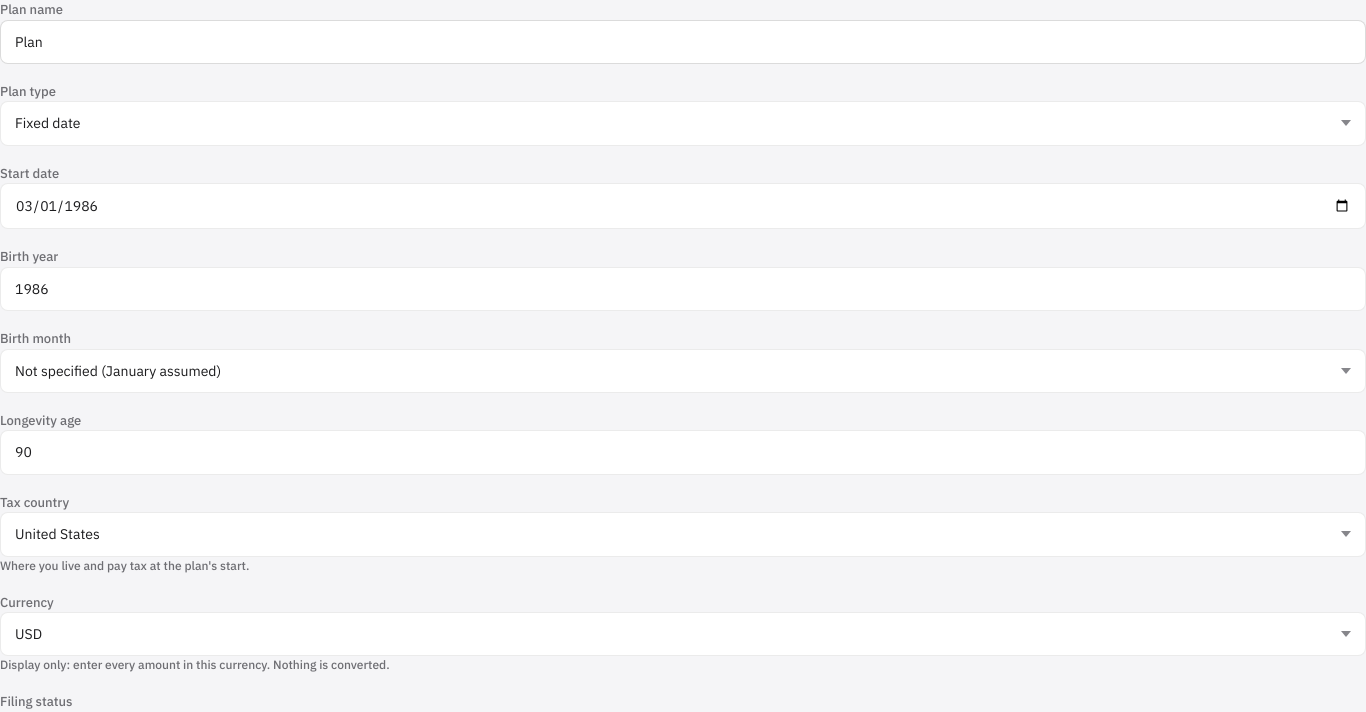
Test: checks a fixed start date against the edited birth month
Select "June" in the dropdown labelled "Birth month" at point(683, 371), box [0,349,1365,393]
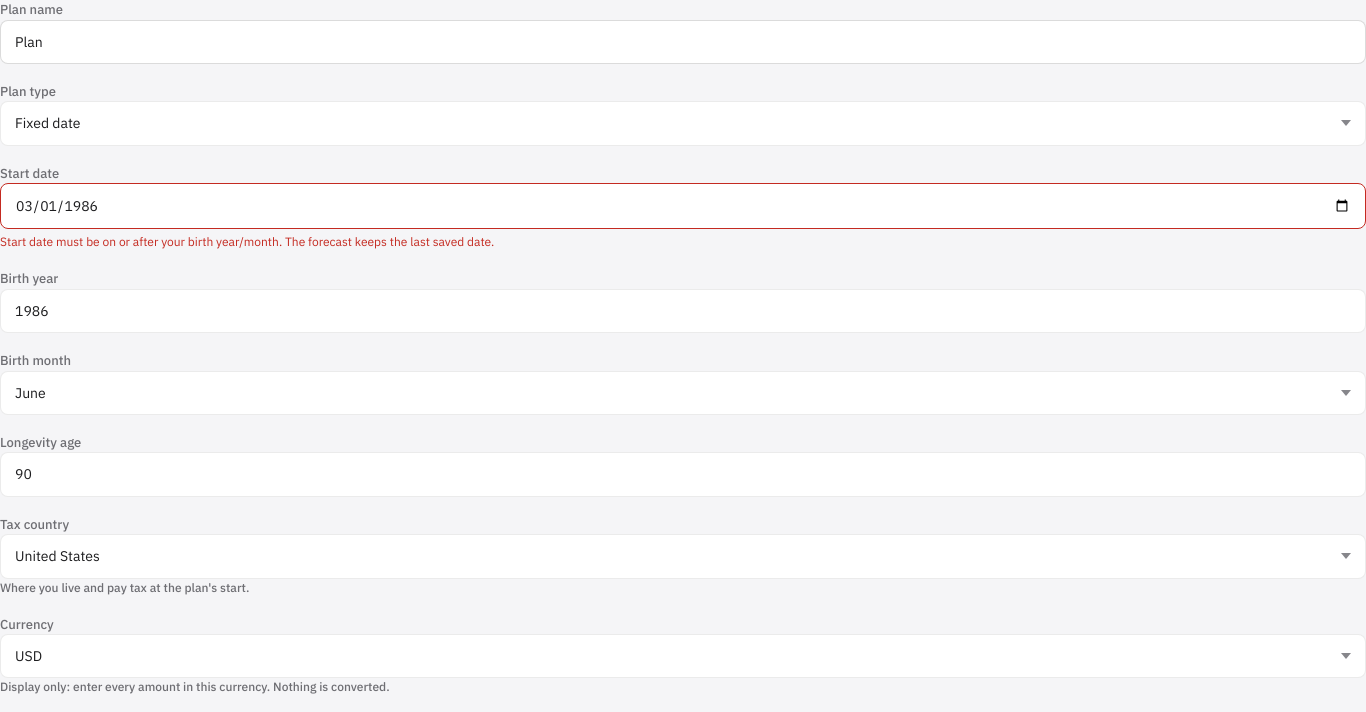
Now the message shows "Start date must be on or after your birth year/month.", box [0,234,282,249]
